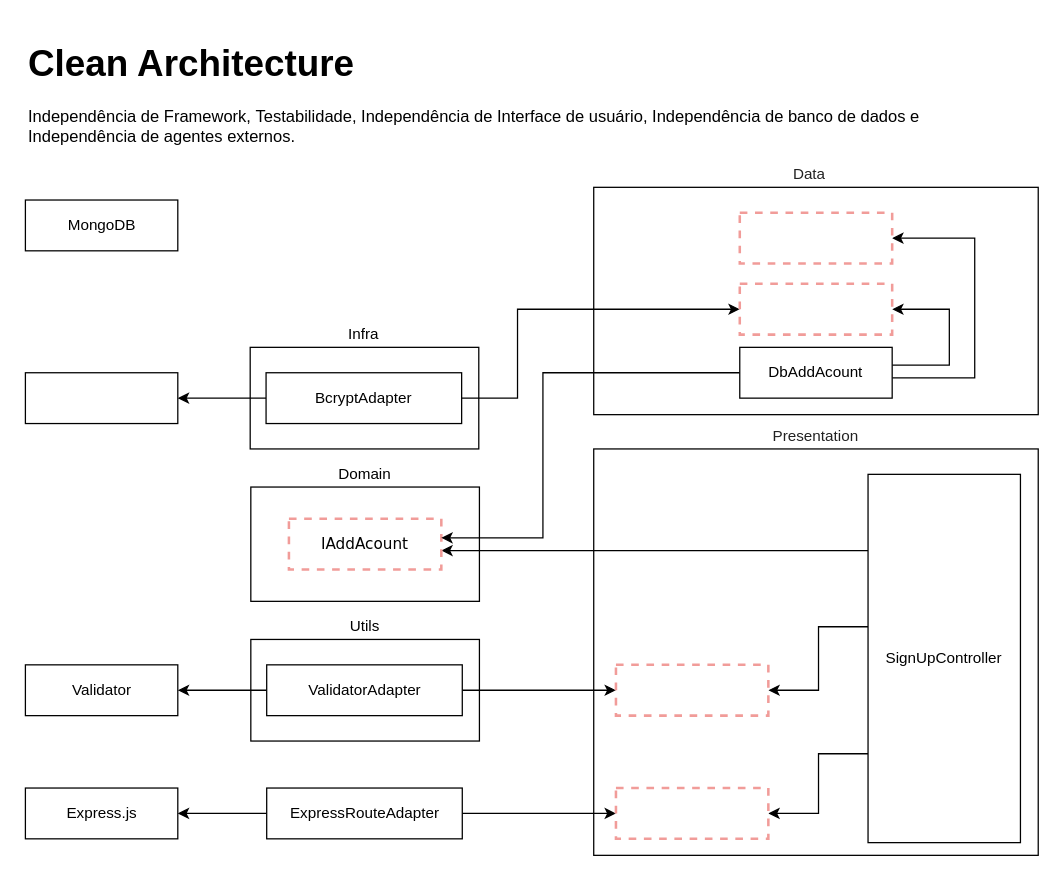
The diagram is 1060 pixels wide and 878 high, and some of its shapes have lost their labels. Here are the shapes that lost their labels. From the top down, the box of each, then its label:
(738, 211, 893, 264): IAddUserRepo
(738, 282, 893, 335): I Encryptor
(24, 371, 178, 424): Bcrypt
(614, 663, 769, 716): IValidator
(614, 786, 769, 839): IController
